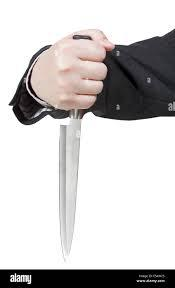Knife: (10, 27, 175, 126), (39, 28, 114, 110), (60, 112, 86, 259)
